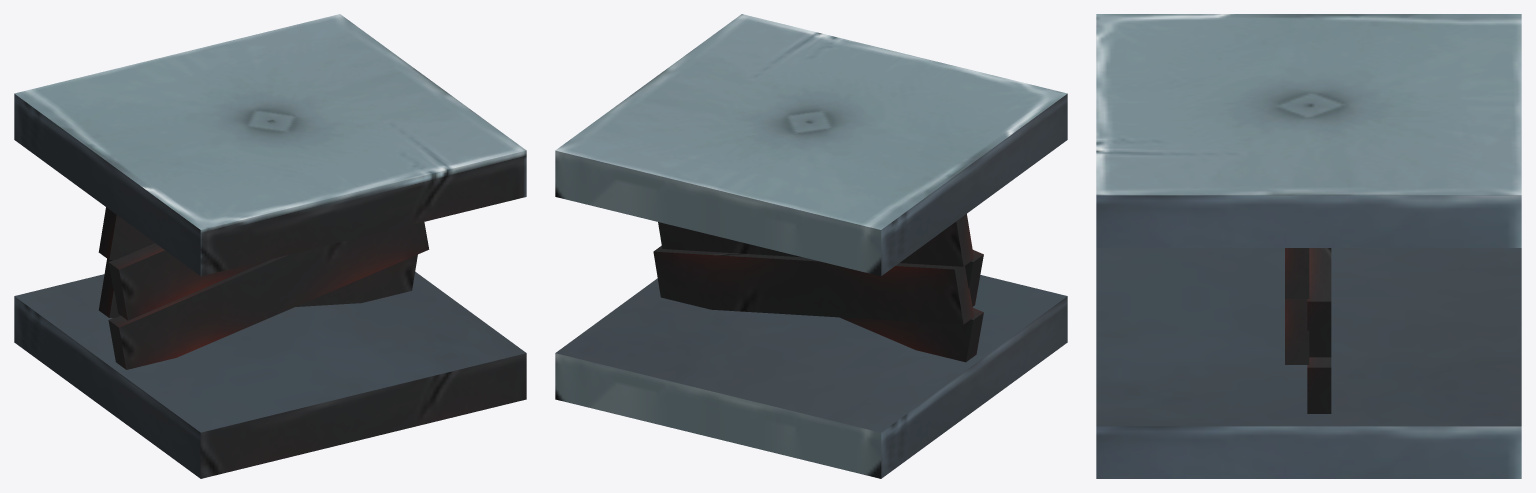
Rendered from spring.FBX.
The picture shows the model from 3 angles, left to right: view 1: azimuth 30°, elevation 25°; view 2: azimuth 150°, elevation 25°; view 3: azimuth 270°, elevation 25°; orthographic projection. The views are drawn at different scales.
Parts seen in each view (by area): view 1: spring04, spring05, spring03, spring02, spring00, spring01; view 2: spring04, spring05, spring00, spring01, spring03, spring02; view 3: spring04, spring05, spring01, spring03, spring00, spring02.
Boxes of the visible parts, x1,y1,x2,y2 form: spring04: (14, 14, 526, 276); spring05: (14, 271, 526, 478); spring03: (108, 222, 429, 369); spring02: (108, 243, 270, 320); spring00: (99, 254, 417, 317); spring01: (98, 207, 154, 260); spring04: (555, 14, 1067, 276); spring05: (555, 275, 1067, 478); spring00: (653, 245, 973, 324); spring01: (658, 214, 973, 266); spring03: (839, 308, 983, 362); spring02: (965, 250, 983, 306); spring04: (1096, 14, 1521, 247); spring05: (1096, 248, 1521, 478); spring01: (1307, 248, 1331, 357); spring03: (1285, 299, 1309, 364); spring00: (1307, 357, 1331, 413); spring02: (1285, 248, 1309, 298).
Size of the model in its own units: 0.7439 by 0.5428 by 0.7376.
